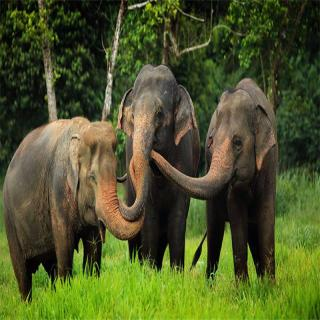Elephant: (1, 114, 137, 312), (188, 72, 288, 294), (114, 61, 204, 281)
